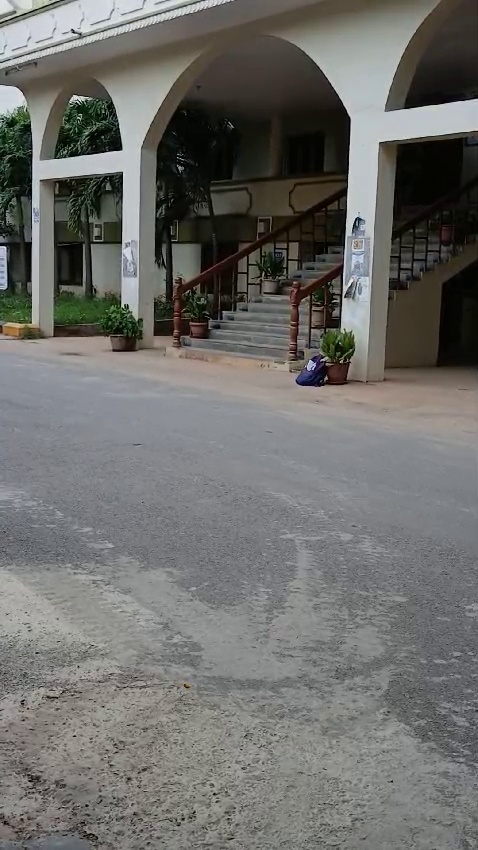bag: (289, 342, 327, 391)
